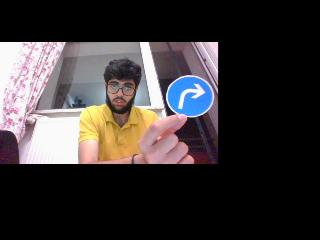right: (168, 75, 212, 115)
